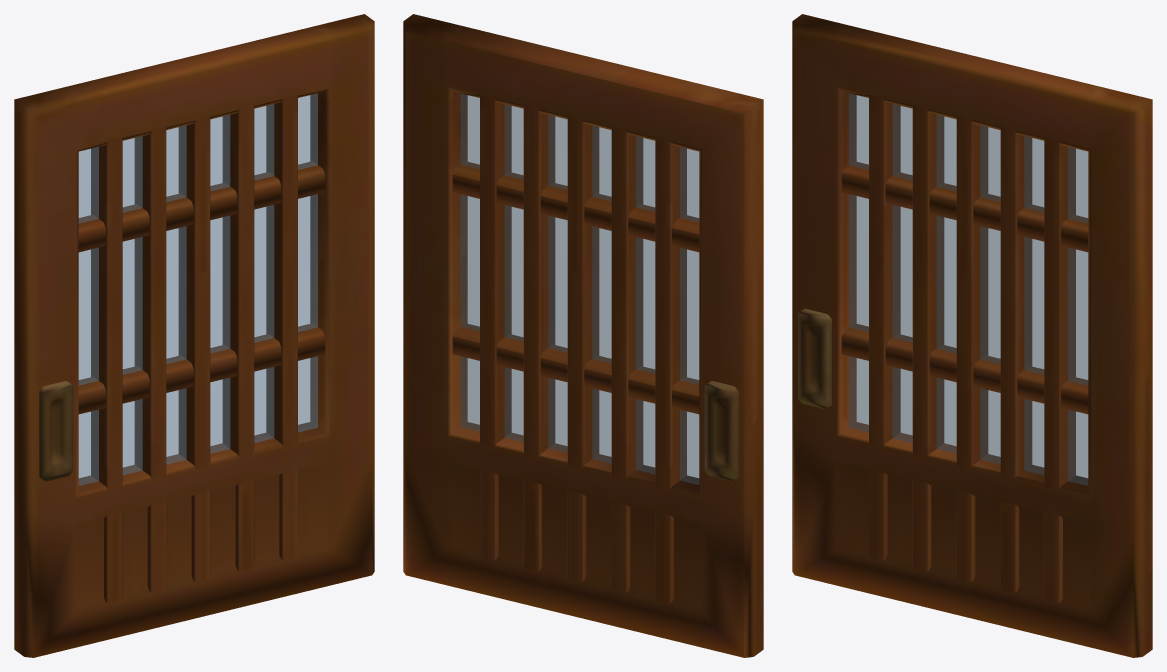
The model's file is door-lattice-s.glb.
The picture shows the model from 3 angles, left to right: view 1: azimuth 30°, elevation 25°; view 2: azimuth 150°, elevation 25°; view 3: azimuth 330°, elevation 25°; orthographic projection.
Size of the model in its own units: 12 by 18 by 1.29.
2 materials, 1 textured.
